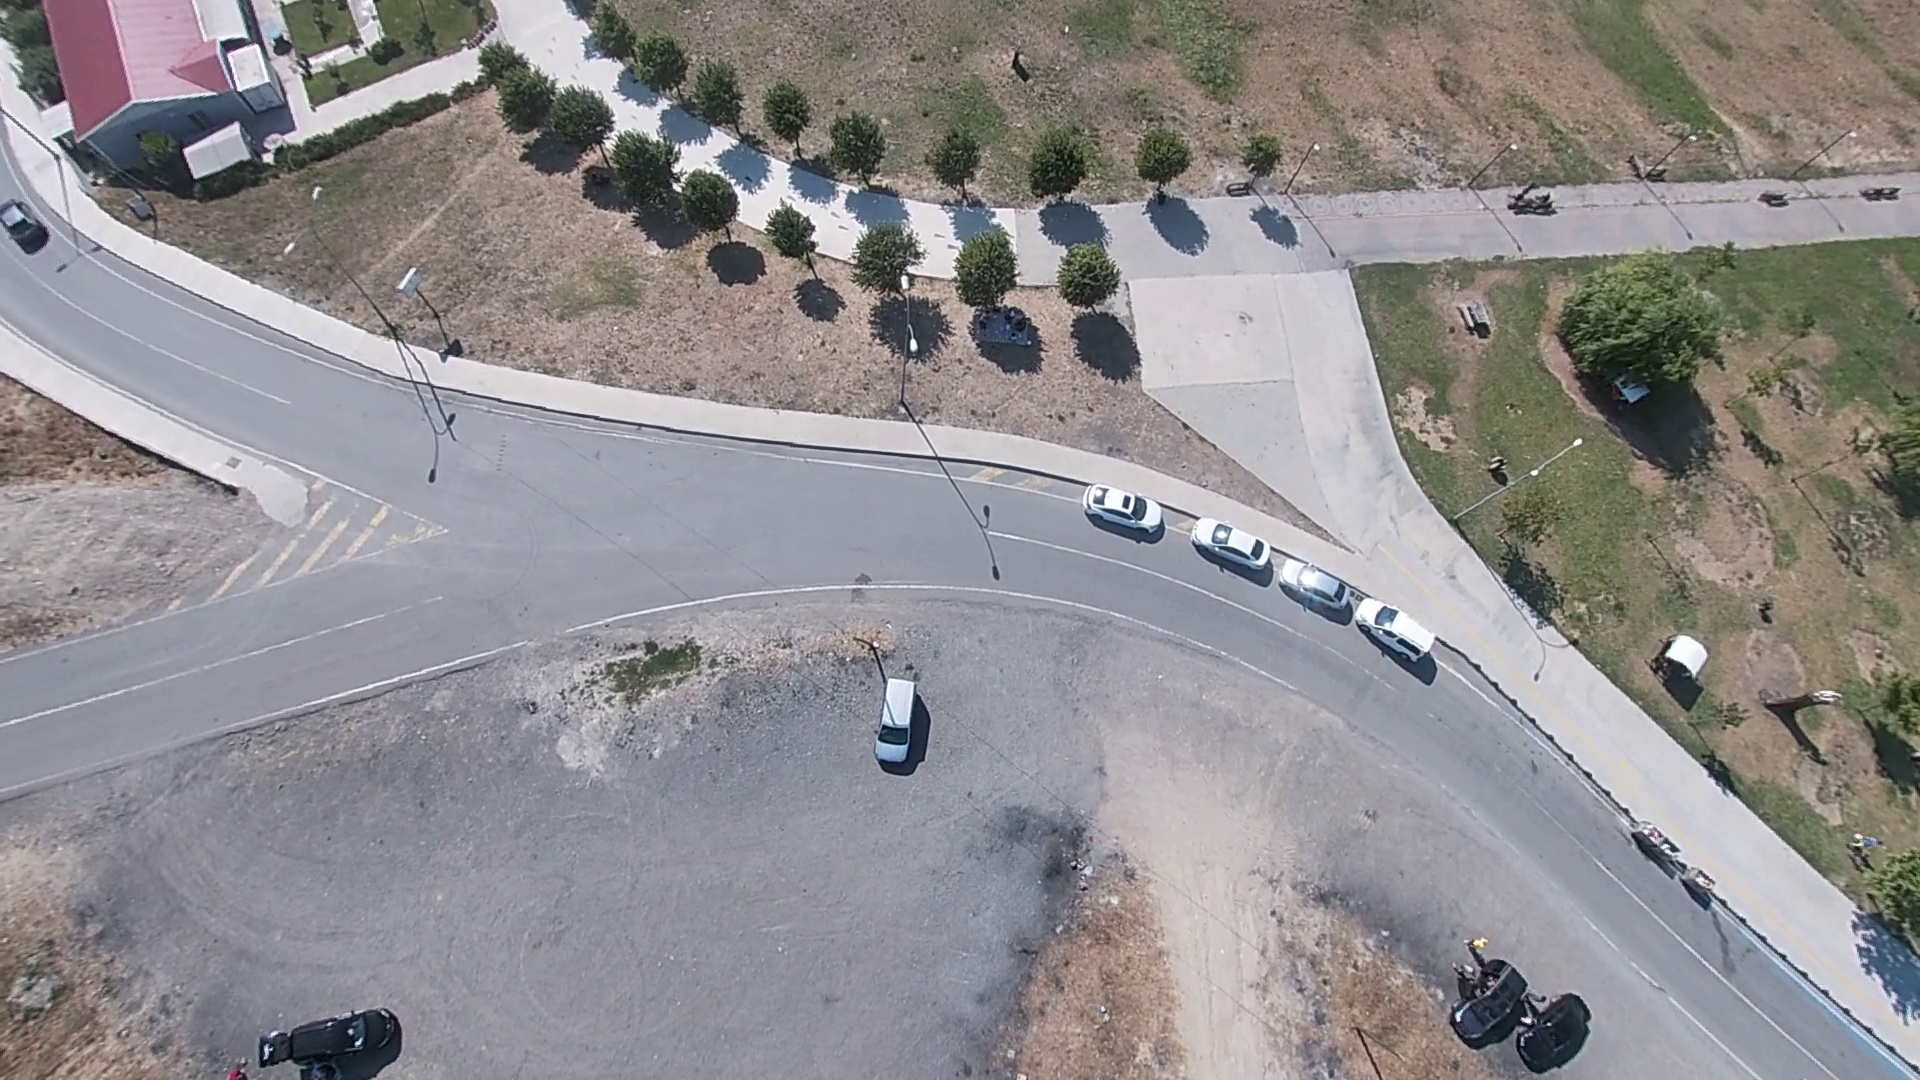arac: (1185, 512, 1447, 671), (258, 1001, 400, 1074), (1077, 474, 1170, 544), (872, 672, 928, 772)
insan: (1847, 838, 1878, 878), (1486, 454, 1511, 493), (1009, 48, 1030, 88)
